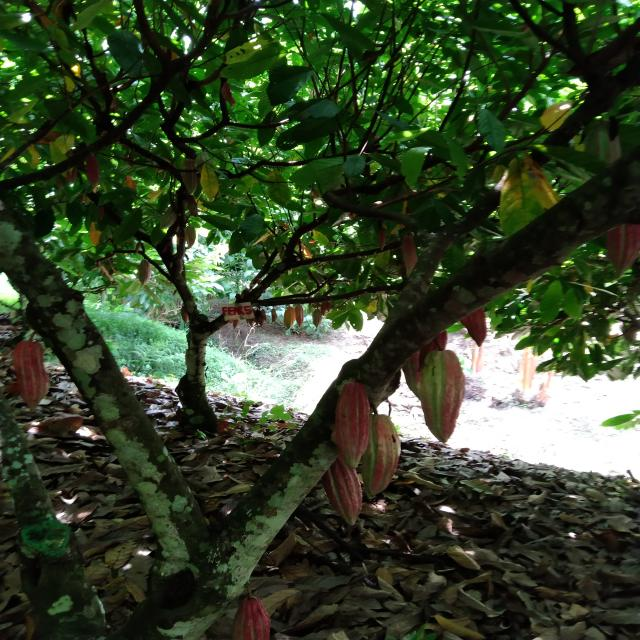Sana: (422, 350, 462, 439), (332, 385, 370, 472), (368, 415, 401, 498), (14, 340, 44, 408), (326, 462, 359, 522), (228, 598, 272, 638), (391, 238, 418, 272), (471, 309, 488, 344), (158, 206, 178, 230), (138, 260, 150, 285), (282, 308, 296, 328), (186, 225, 196, 248), (294, 305, 304, 325), (312, 308, 322, 328)
